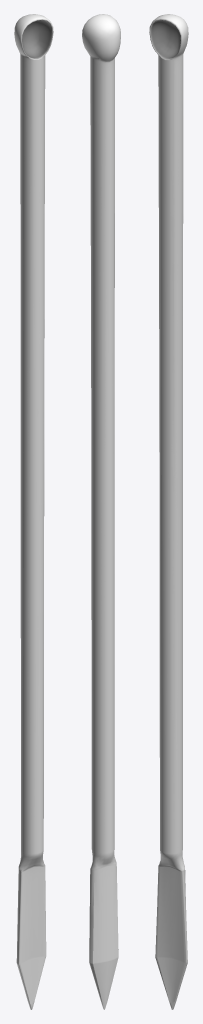
The model's file is Spatula_Blade.fbx.
The picture shows the model from 3 angles, left to right: view 1: azimuth 30°, elevation 25°; view 2: azimuth 210°, elevation 25°; view 3: azimuth 330°, elevation 25°; orthographic projection.
Visible parts, largest first — view 1: Spatula_Blade_LOD0; view 2: Spatula_Blade_LOD0; view 3: Spatula_Blade_LOD0.
Part boxes in pixels (bbox=[...]): Spatula_Blade_LOD0: bbox=[14, 14, 53, 1009]; Spatula_Blade_LOD0: bbox=[82, 14, 120, 1009]; Spatula_Blade_LOD0: bbox=[149, 14, 188, 1009].
Size of what is drawn, in the model's own units: 0.778 by 22.06 by 0.5984.
